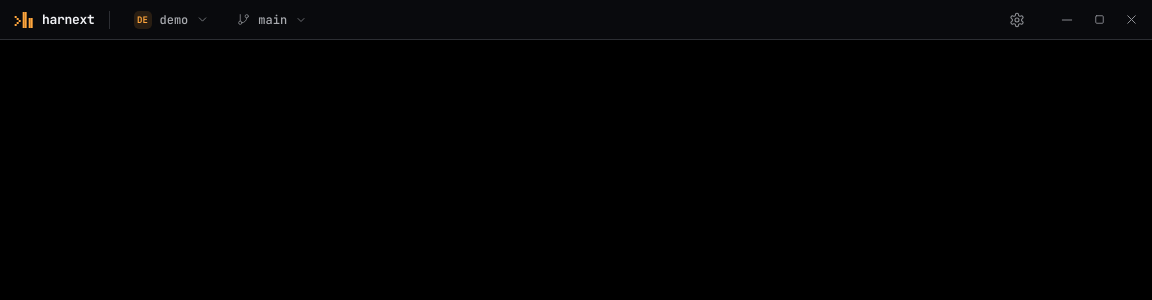
Test: Titlebar branch switcher — search + scroll (#136) › shows a "no match" message when nothing matches
Click the button titled "Switch branch" at (272, 20), box [227, 6, 317, 32]
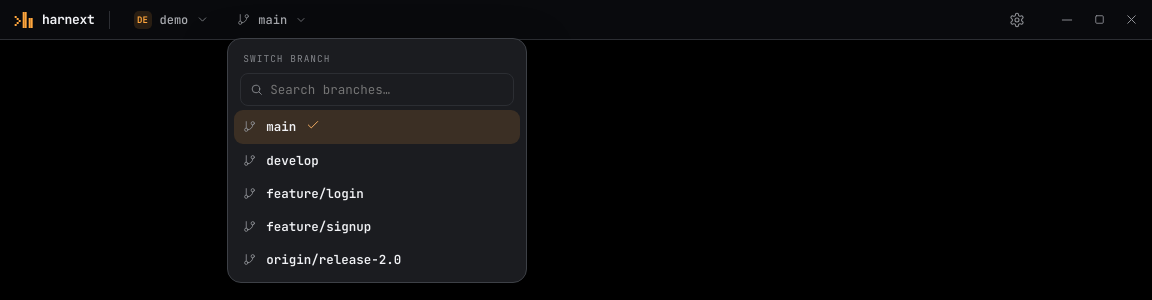
expect the field labelled "Search branches" is shown: met
Type "zzz-nope" into the field labelled "Search branches" at (387, 89), box [270, 81, 504, 98]
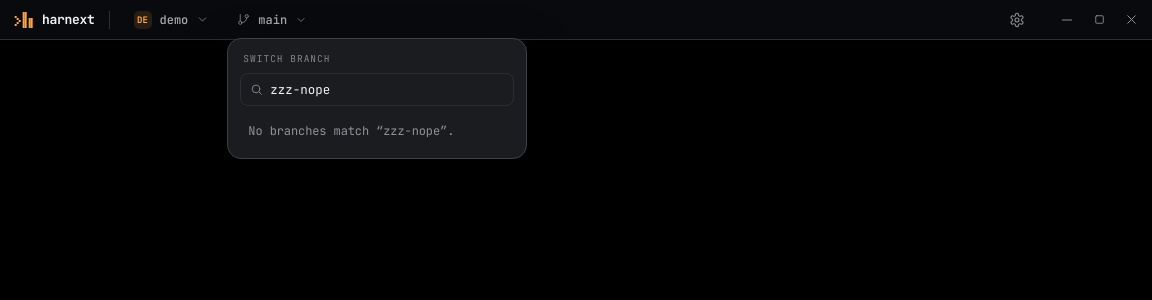
expect the text "No branches match “zzz-nope”." is shown: met, box [248, 123, 454, 139]
